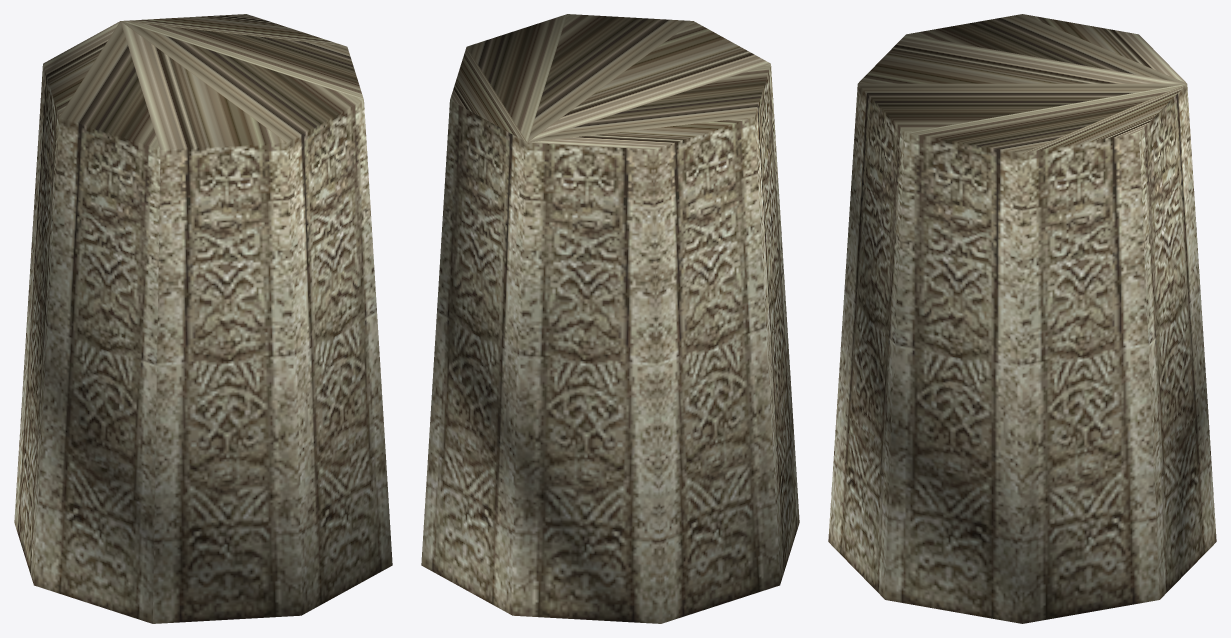
Rendered from general_obj_bigtoewr08.fbx.
The picture shows the model from 3 angles, left to right: view 1: azimuth 30°, elevation 25°; view 2: azimuth 150°, elevation 25°; view 3: azimuth 270°, elevation 25°; orthographic projection.
Visible parts, largest first — view 1: Sphere01; view 2: Sphere01; view 3: Sphere01.
Part boxes in pixels (<box>): Sphere01: <box>14,14,392,623</box>; Sphere01: <box>421,14,799,623</box>; Sphere01: <box>828,14,1216,623</box>.
Size of the model in its own units: 3.7 by 4.82 by 3.7.
